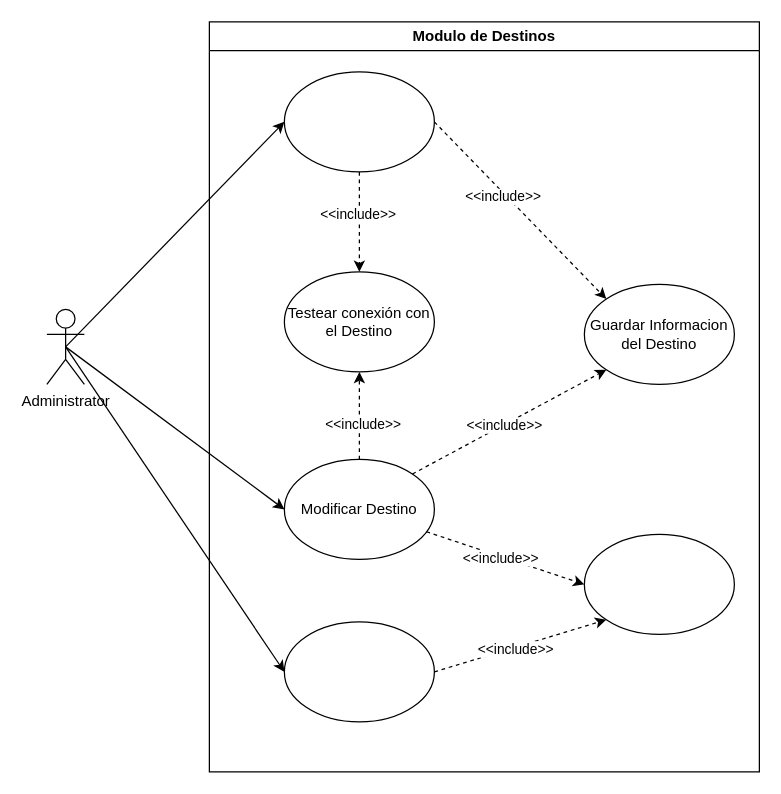
This 781x794 diagram has some shape labels left out. Here are the shapes that lost their labels. From the top down, the centre of each, then its label:
(x=358, y=121): Crear Destino
(x=658, y=583): Obtener Informacion de los Destino
(x=358, y=671): Ver lista de Destinos
